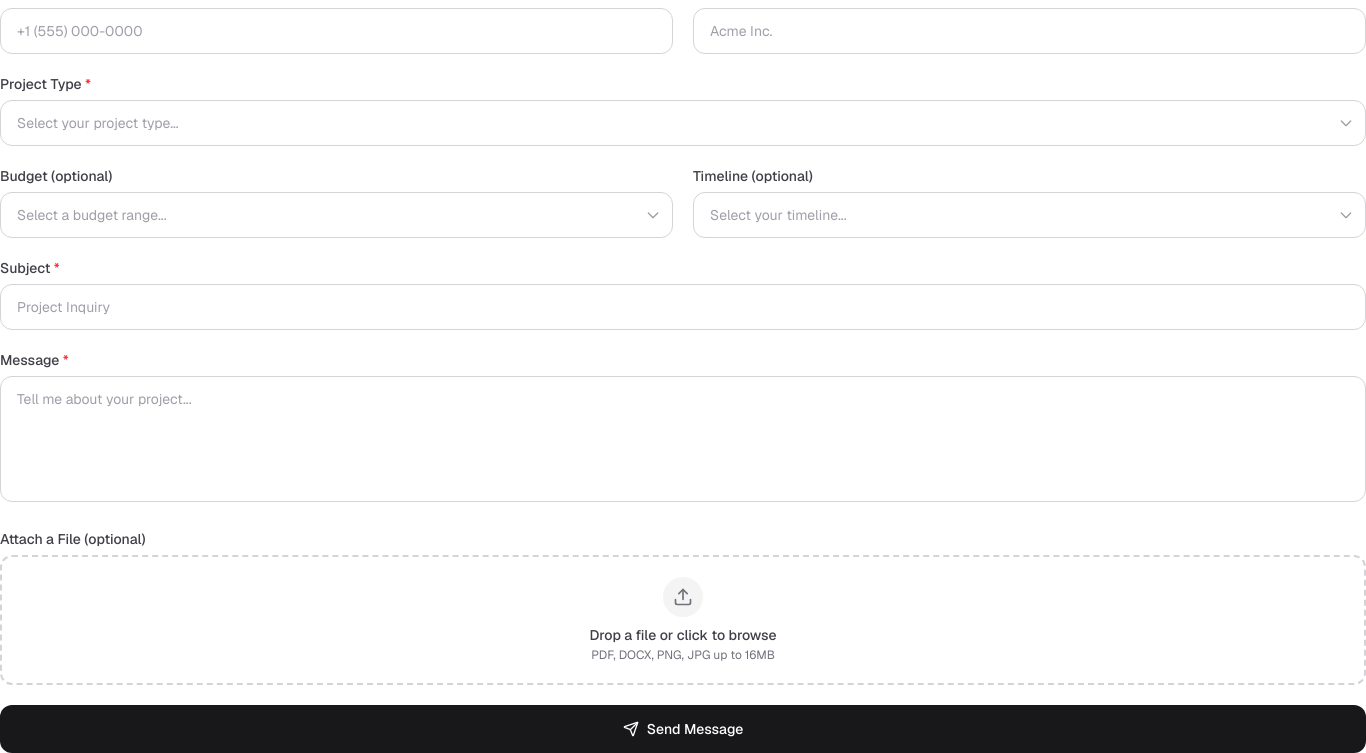
Test case: ContactForm › validation › shows submit error banner when validation fails
(page scrolled)
Step 1. Click the button "Send Message" → (683, 729), box [0,705,1365,752]
(page scrolled)
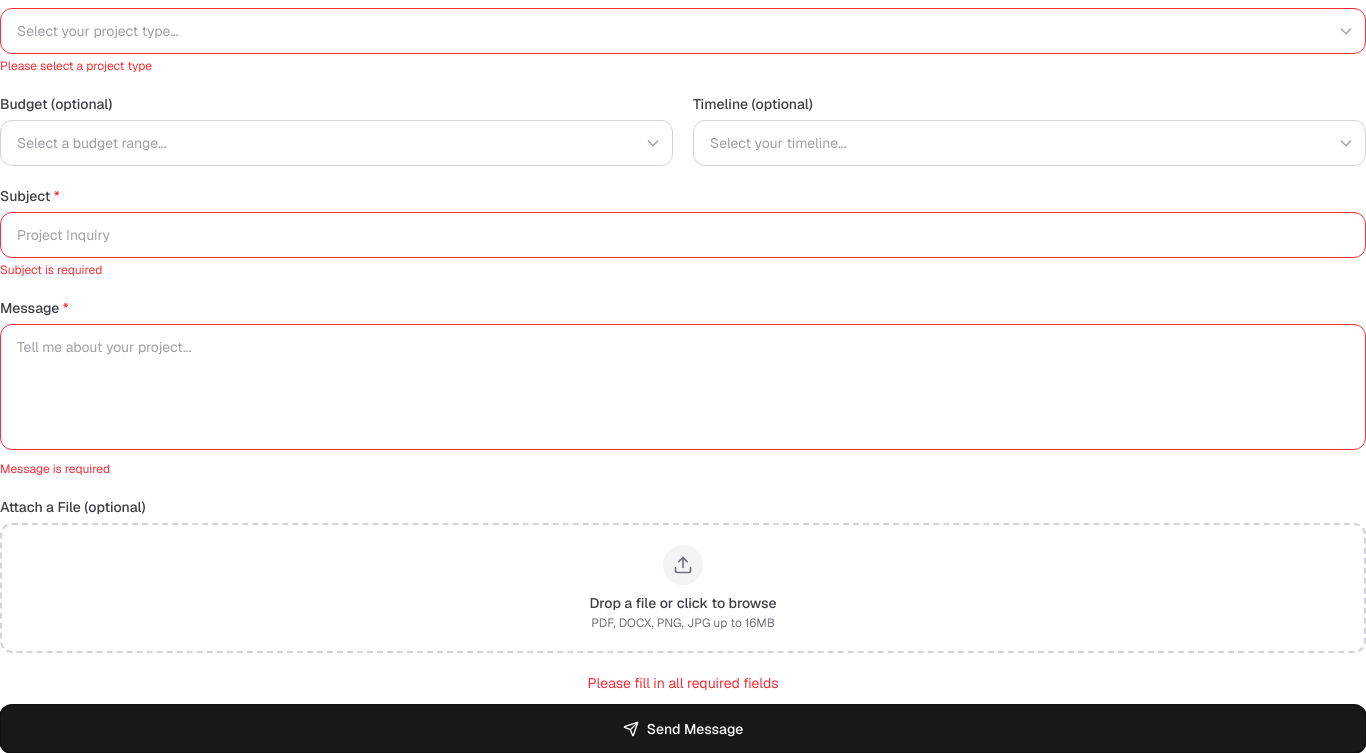
Result: the text "Please fill in all required fields" is shown at [588,674,778,692]
